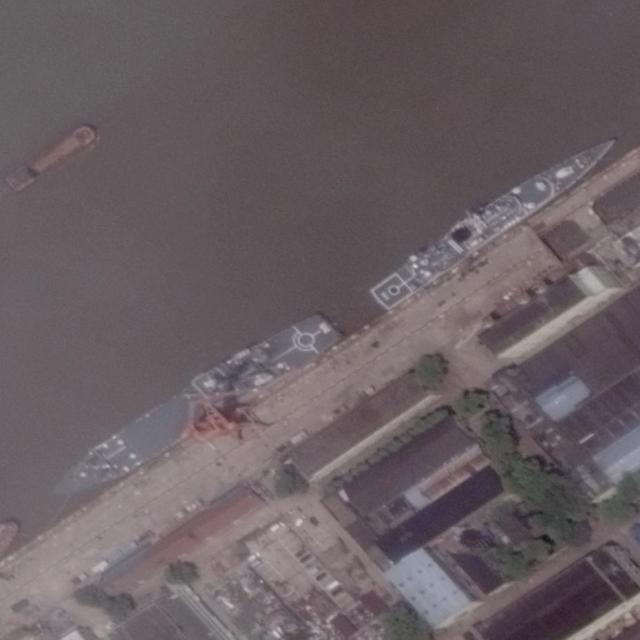Frigate: (366, 127, 626, 312)
Landing: (45, 301, 345, 508)
